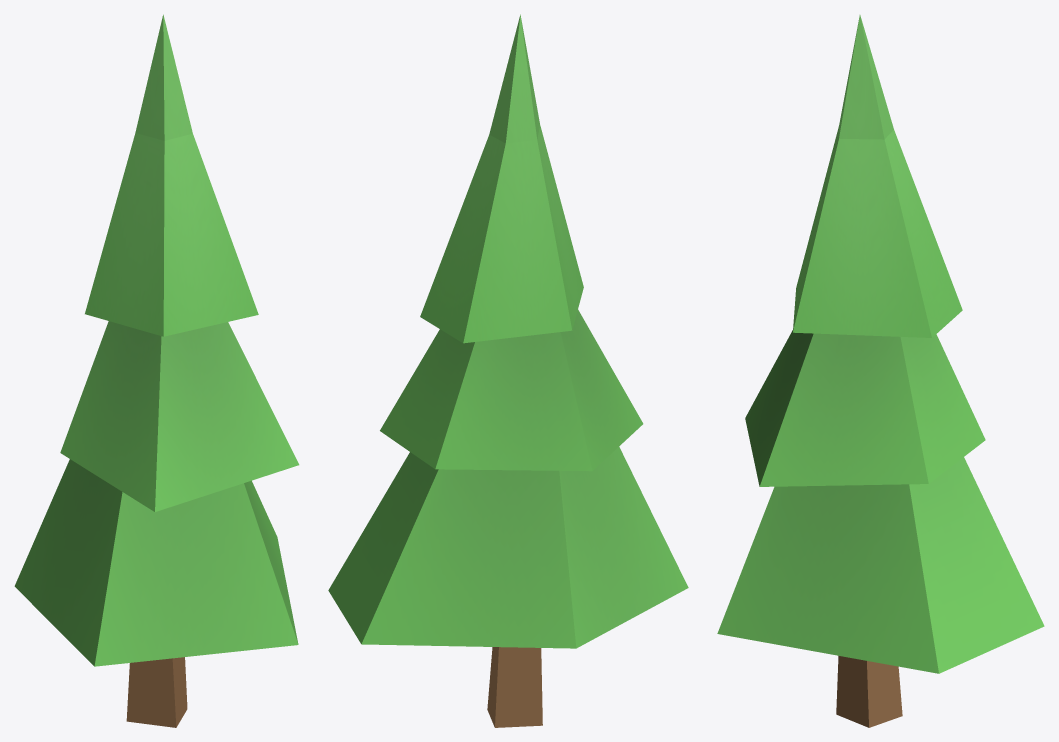
File: Fir_Tree_OneSided_s_02_LOD.fbx
3 views of the same model, side by side, from view 1: azimuth 30°, elevation 25°; view 2: azimuth 150°, elevation 25°; view 3: azimuth 270°, elevation 25° (orthographic).
Visible parts, largest first — view 1: Fir_Tree_OneSided_s_02_LOD0; view 2: Fir_Tree_OneSided_s_02_LOD0; view 3: Fir_Tree_OneSided_s_02_LOD0.
Part boxes in pixels (box(x1,y1,x2,y2)): Fir_Tree_OneSided_s_02_LOD0: box(14, 14, 299, 727); Fir_Tree_OneSided_s_02_LOD0: box(328, 14, 688, 727); Fir_Tree_OneSided_s_02_LOD0: box(717, 15, 1044, 727).
Size of what is drawn, in the model's own units: 104 by 256 by 108.
